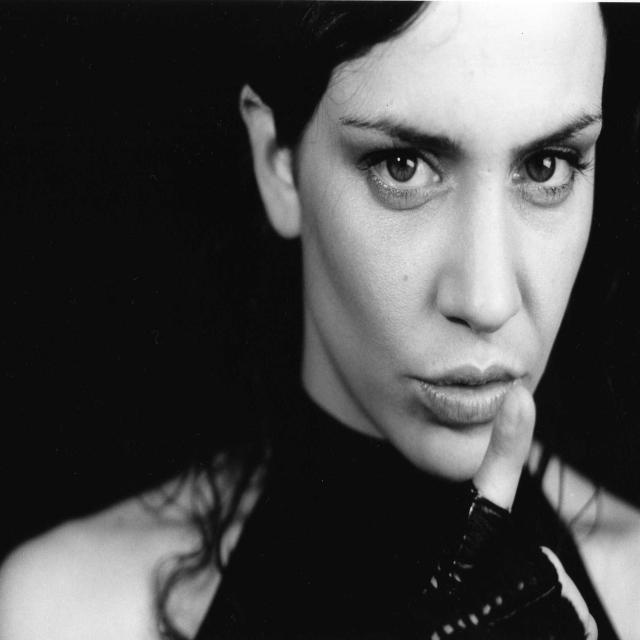no-glass: (355, 132, 590, 204)
